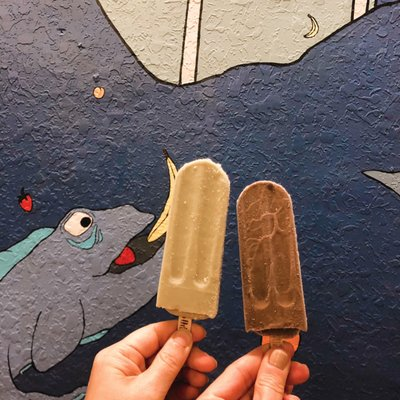burger: (153, 147, 230, 321), (236, 181, 308, 337)
